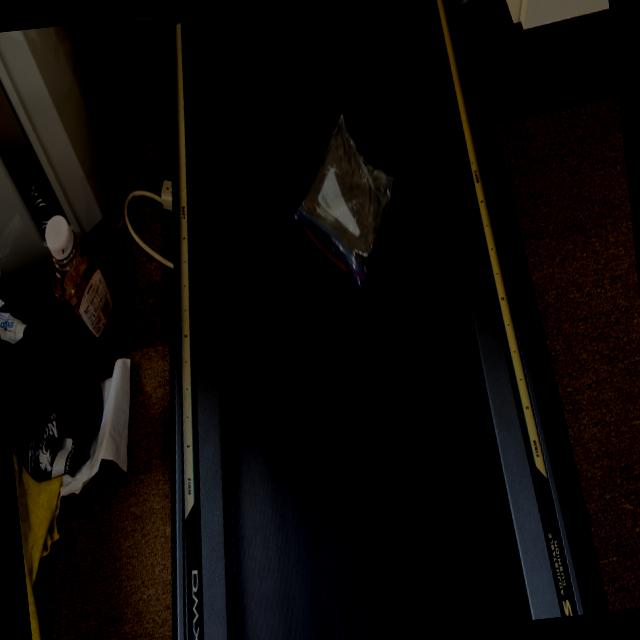Trash: (282, 105, 406, 295)
